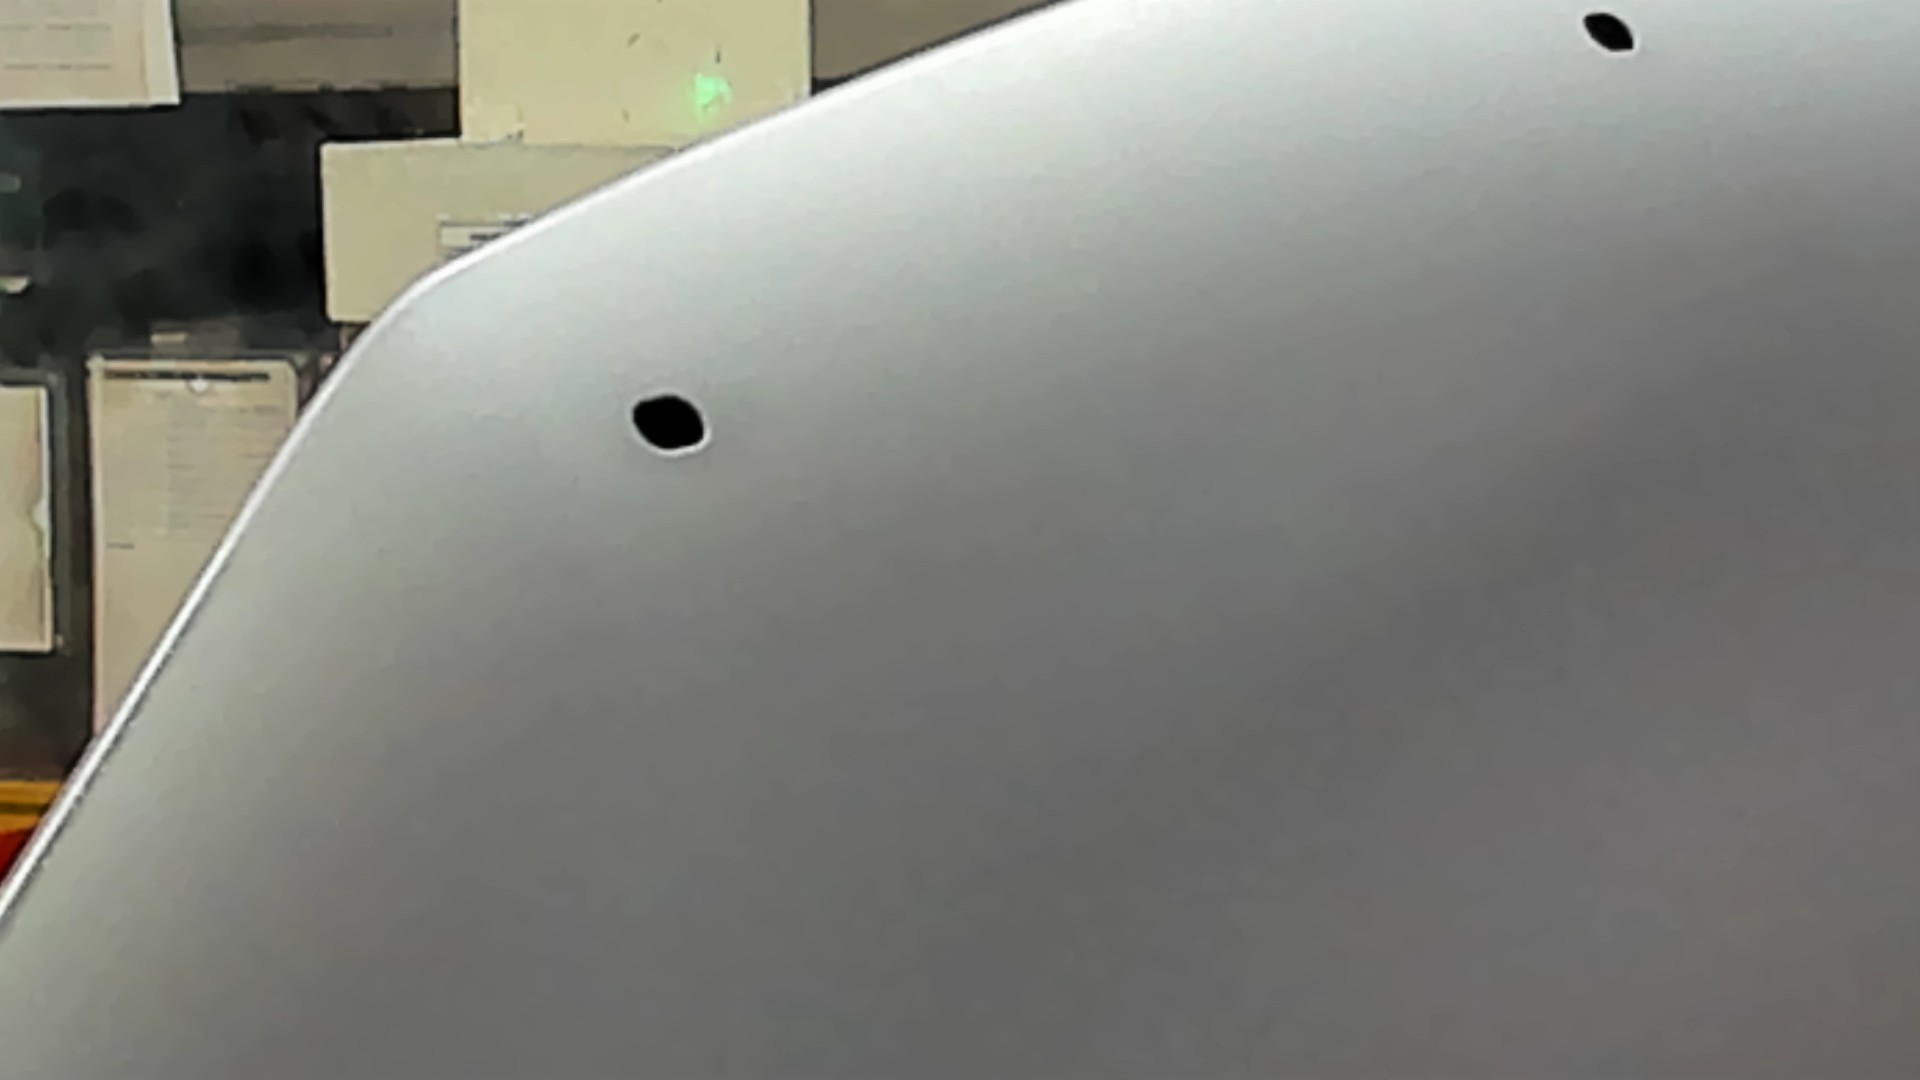chico: (621, 381, 738, 464), (1571, 7, 1654, 65)
